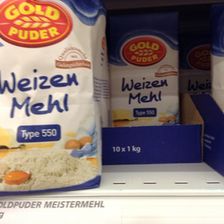flour: (1, 1, 104, 195), (108, 24, 180, 126)
